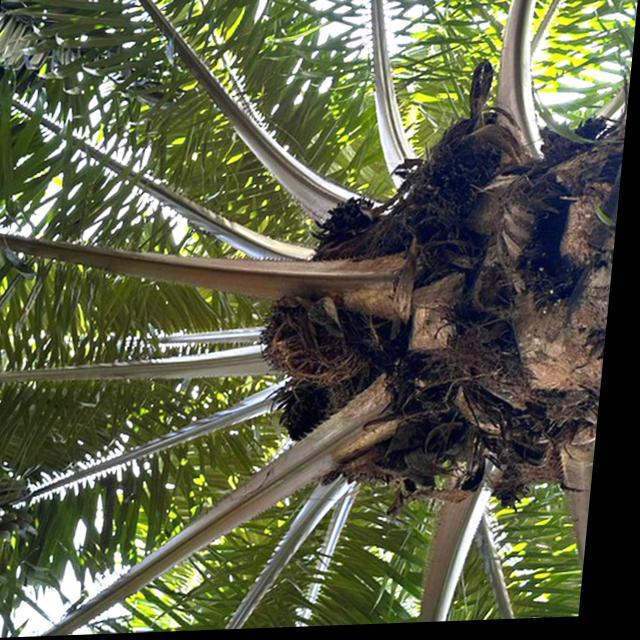ripe: (261, 297, 372, 381)
